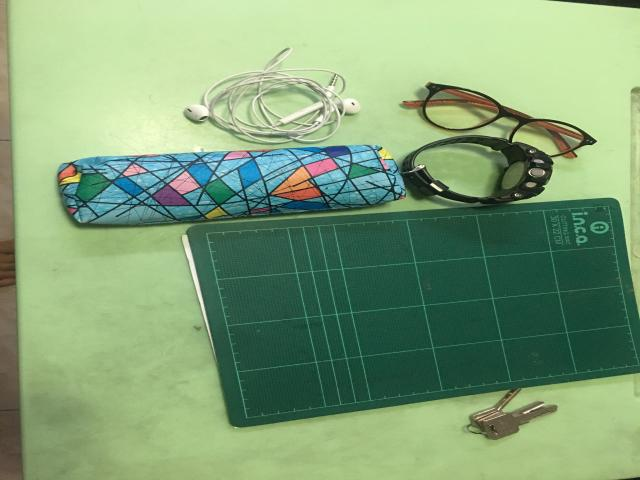Glasses: (403, 82, 595, 157)
Keys: (470, 388, 557, 440)
Watch: (402, 135, 553, 204)
wire: (183, 48, 360, 143)
